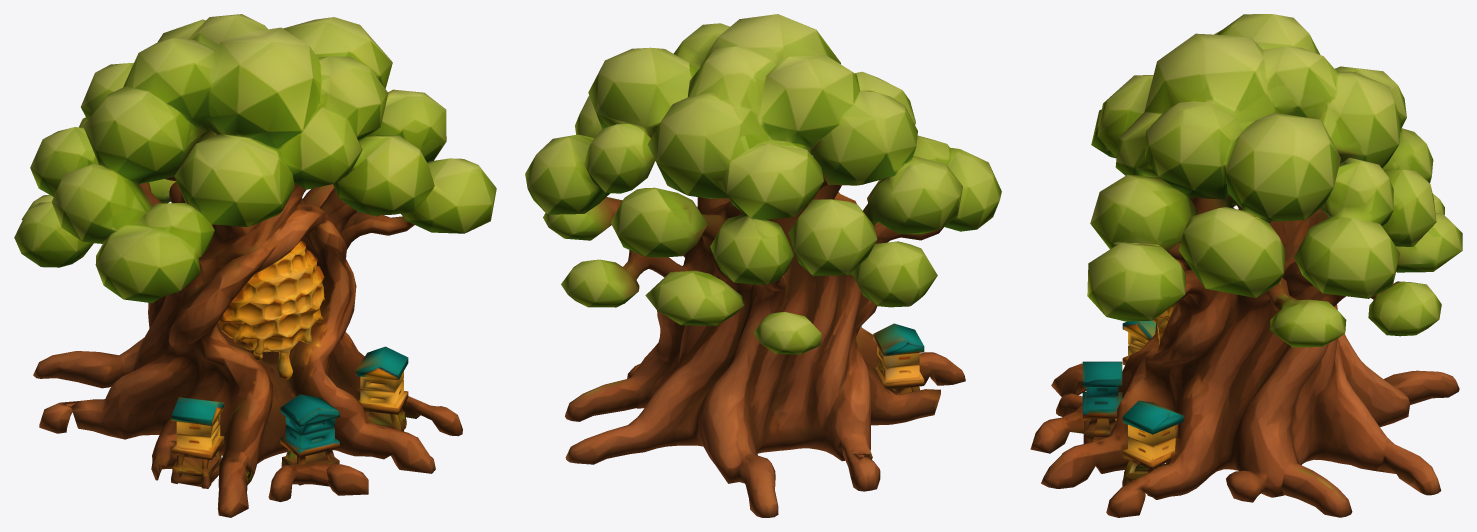
Rendered from anakovan.glb.
The picture shows the model from 3 angles, left to right: view 1: azimuth 30°, elevation 25°; view 2: azimuth 150°, elevation 25°; view 3: azimuth 270°, elevation 25°; orthographic projection. The views are drawn at different scales.
Parts seen in each view (by area): view 1: material; view 2: material; view 3: material.
Boxes of the visible parts, x1,y1,x2,y2 form: material: (14, 14, 496, 517); material: (525, 14, 1001, 517); material: (1030, 14, 1462, 517).
Size of the model in its own units: 1.9 by 1.85 by 1.79.
Materials: 1 (1 with a texture image).
